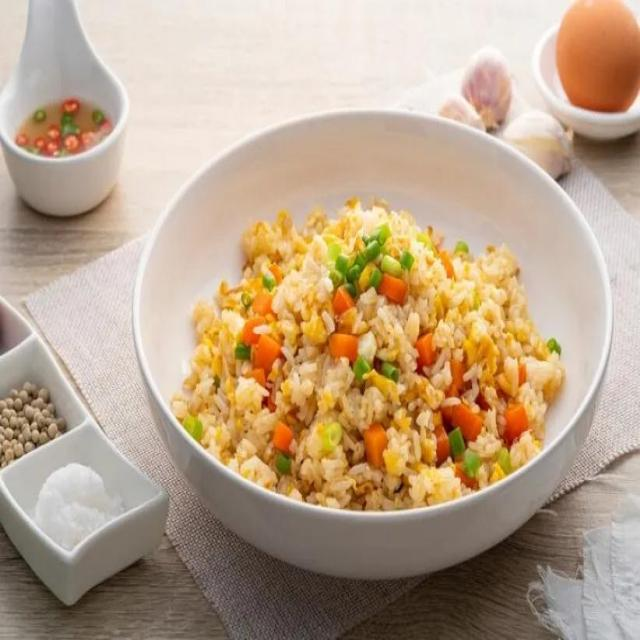Nasi Goreng: (170, 194, 565, 510)
